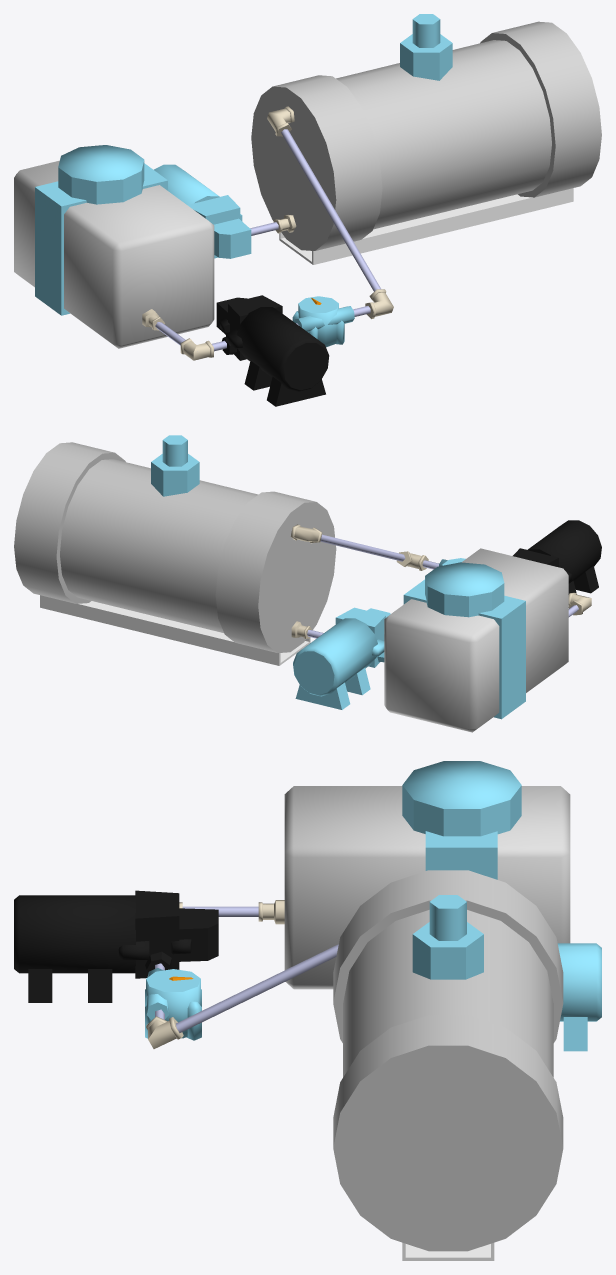
Rendered from CookieFactoryWaterTank.glb.
3 renders of one model, top to bottom at view 1: azimuth 30°, elevation 25°; view 2: azimuth 150°, elevation 25°; view 3: azimuth 270°, elevation 25°, orthographic. The views are drawn at different scales.
Visible parts, largest first — view 1: StorageTank, StorageTankHull, SupplyTank, Pump.001, Cube, SupplyTankCap, SupplyTankMetal, Pump, Cylinder, FlowMeter, water-pipe1_3, pipe-corner2 (+2 smaller); view 2: StorageTankHull, StorageTank, SupplyTank, Pump, Cube, SupplyTankCap, SupplyTankMetal, Pump.001, Cylinder, water-pipe1_3, pipe-corner3; view 3: StorageTankHull, SupplyTank, StorageTank, Pump.001, SupplyTankCap, Cylinder, Pump, FlowMeter, SupplyTankMetal, water-pipe1_3, Cube, pipe-corner2.
Part boxes in pixels (bbox=[...]): StorageTank: bbox=[336, 40, 551, 229]; StorageTankHull: bbox=[251, 21, 601, 250]; SupplyTank: bbox=[14, 160, 214, 348]; Pump.001: bbox=[216, 295, 329, 406]; Cube: bbox=[279, 188, 573, 264]; SupplyTankCap: bbox=[58, 145, 144, 204]; SupplyTankMetal: bbox=[35, 163, 167, 315]; Pump: bbox=[154, 164, 251, 258]; Cylinder: bbox=[400, 14, 452, 80]; FlowMeter: bbox=[292, 296, 354, 347]; water-pipe1_3: bbox=[281, 129, 380, 291]; pipe-corner2: bbox=[365, 289, 393, 319]; StorageTankHull: bbox=[14, 442, 336, 652]; StorageTank: bbox=[60, 459, 258, 632]; SupplyTank: bbox=[384, 548, 568, 732]; Pump: bbox=[293, 607, 390, 709]; Cube: bbox=[40, 595, 310, 665]; SupplyTankCap: bbox=[425, 562, 504, 617]; SupplyTankMetal: bbox=[403, 579, 525, 719]; Pump.001: bbox=[513, 520, 601, 594]; Cylinder: bbox=[151, 435, 199, 496]; water-pipe1_3: bbox=[320, 534, 405, 561]; pipe-corner3: bbox=[290, 524, 322, 543]; StorageTankHull: bbox=[333, 870, 563, 1251]; SupplyTank: bbox=[284, 786, 570, 989]; StorageTank: bbox=[343, 910, 553, 1077]; Pump.001: bbox=[14, 890, 218, 1002]; SupplyTankCap: bbox=[402, 761, 521, 836]; Cylinder: bbox=[412, 895, 483, 979]; Pump: bbox=[557, 943, 601, 1051]; FlowMeter: bbox=[145, 968, 201, 1040]; SupplyTankMetal: bbox=[425, 831, 497, 879]; water-pipe1_3: bbox=[176, 944, 338, 1032]; Cube: bbox=[402, 1242, 494, 1260]; pipe-corner2: bbox=[146, 1016, 183, 1048].
Bounding box in the file's own units: 1.38 × 0.5235 × 1.02.
